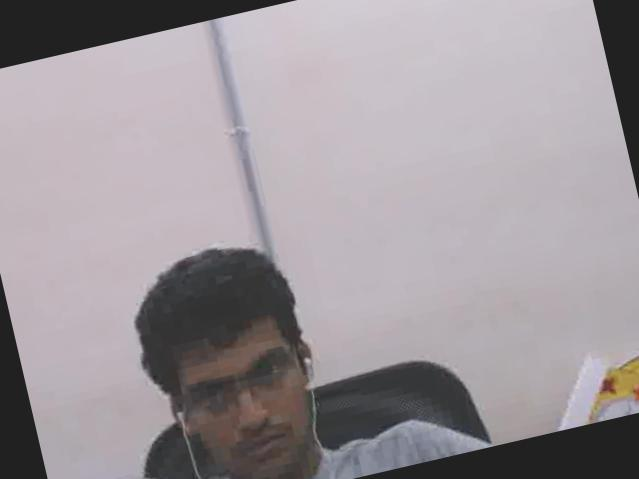bosan: (165, 313, 328, 479)
